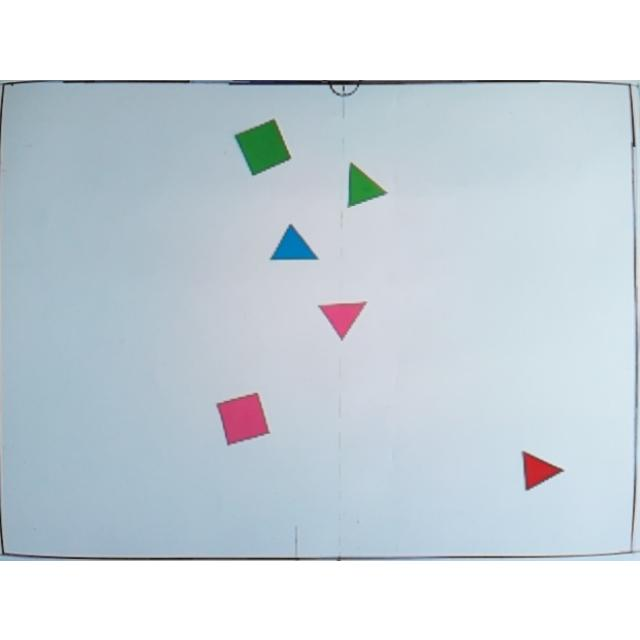blueTriangle: (270, 221, 318, 261)
greenSquare: (235, 116, 292, 174)
greenTriangle: (348, 162, 388, 208)
pinkSquare: (216, 391, 270, 444)
pinkTriangle: (317, 298, 367, 339)
redTriangle: (522, 450, 564, 492)
